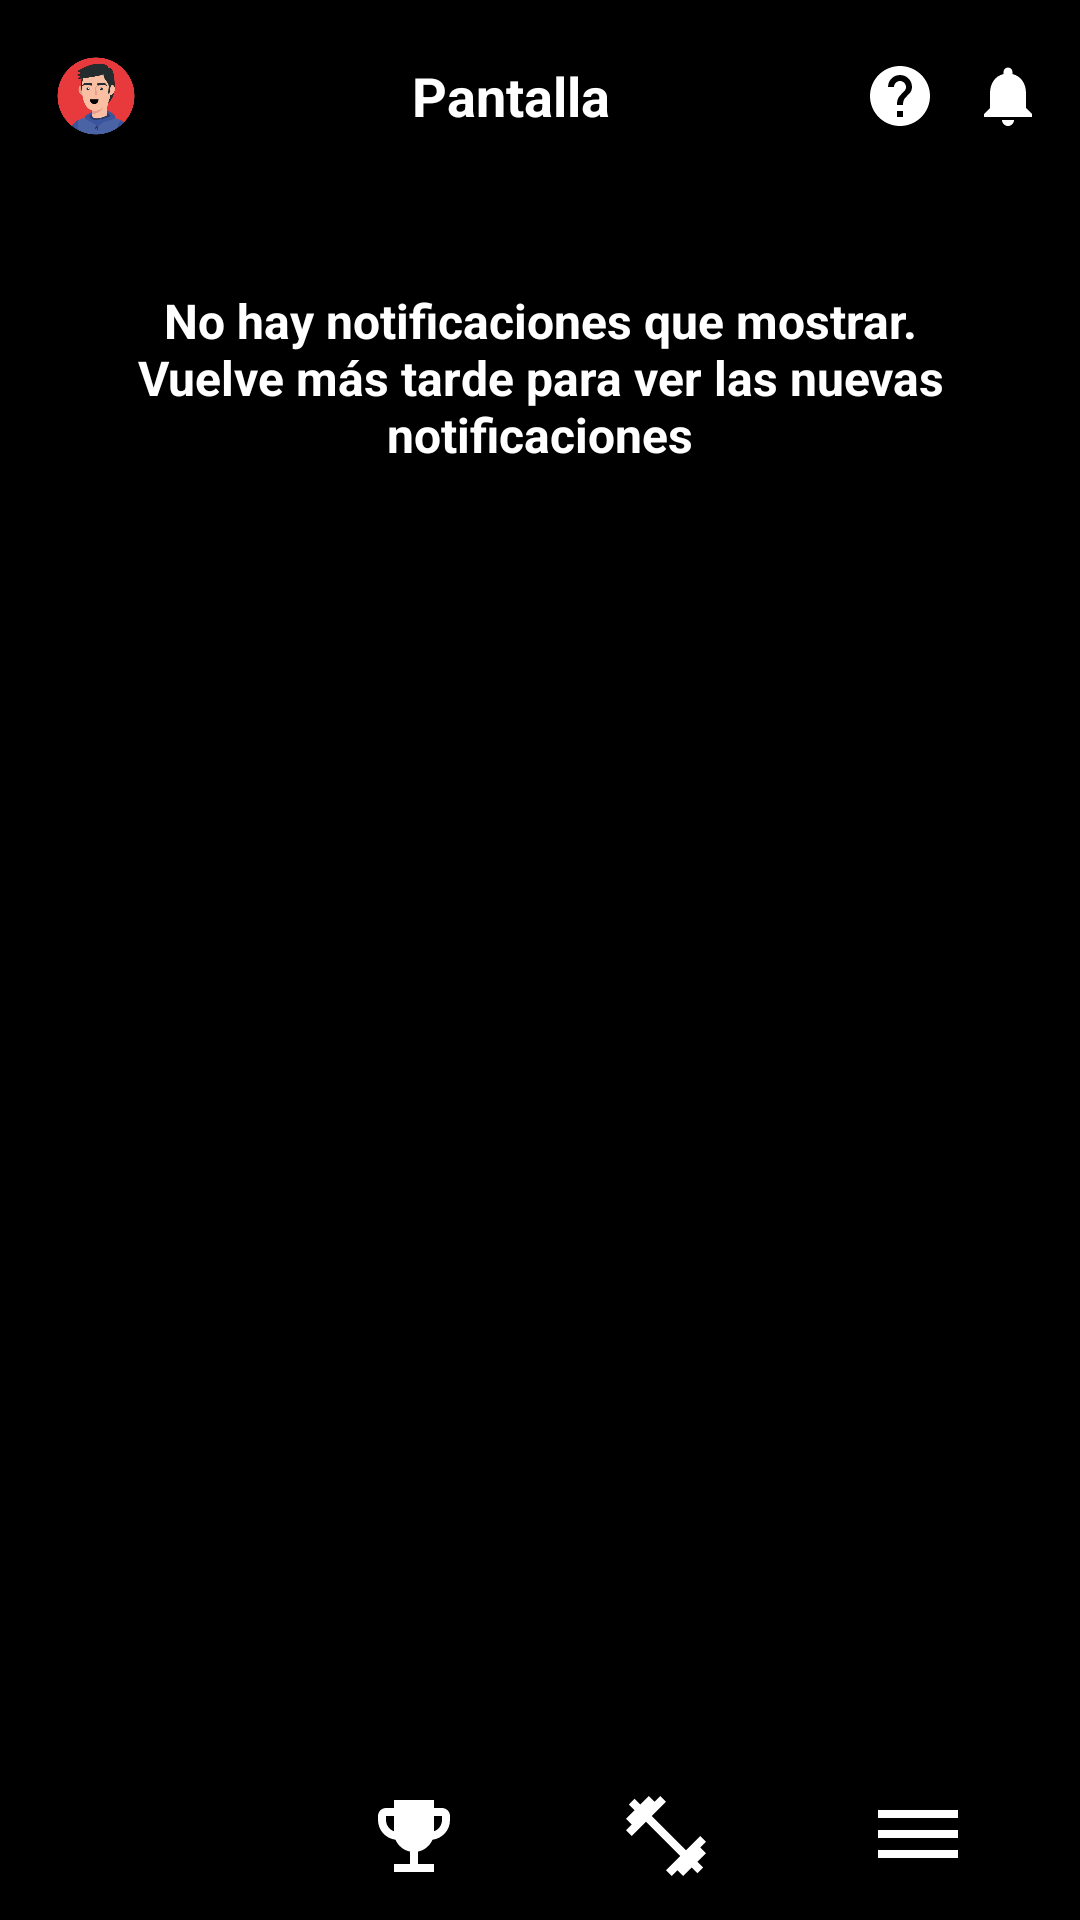

Named icons in this screenshot (1080*1920) and their centers, point (x, y):
Ayuda: point (900, 96)
Icono de entrenamiento: point (666, 1836)
Icono de logros: point (414, 1836)
Icono del menú: point (918, 1834)
Notificaciones: point (1008, 96)
